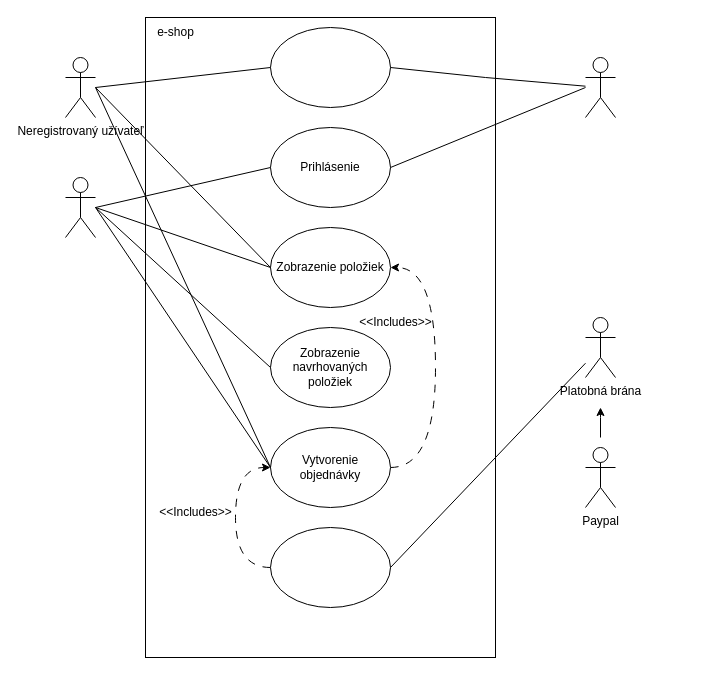
Some shapes in this 704 by 675 pixel diagram are drawn without their labels. The shapes that lost their labels are listed below. From the top down, each one's box as (x1, y1, x2, y2) in pixels, then its label:
(270, 26, 390, 108): Registrácia
(584, 56, 616, 118): Systém pre autorizáciu užívateľa
(64, 176, 96, 238): Registrovaný užívateľ
(270, 526, 390, 608): Zaplatenie
